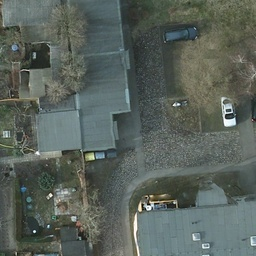car: (164, 23, 197, 45), (221, 93, 238, 127)
